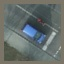car: (20, 23, 47, 45)
